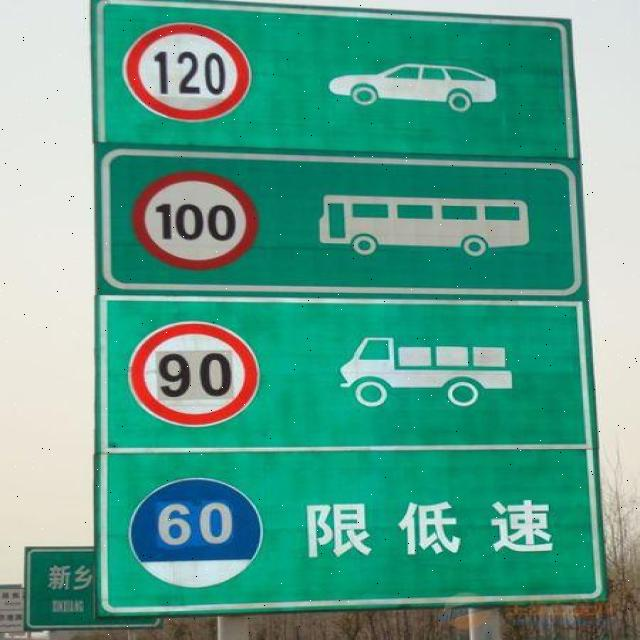speed limit 100: (130, 171, 261, 269)
speed limit 120: (119, 22, 252, 124)
speed limit 60: (130, 475, 265, 589)
speed limit 90: (127, 323, 262, 428)
